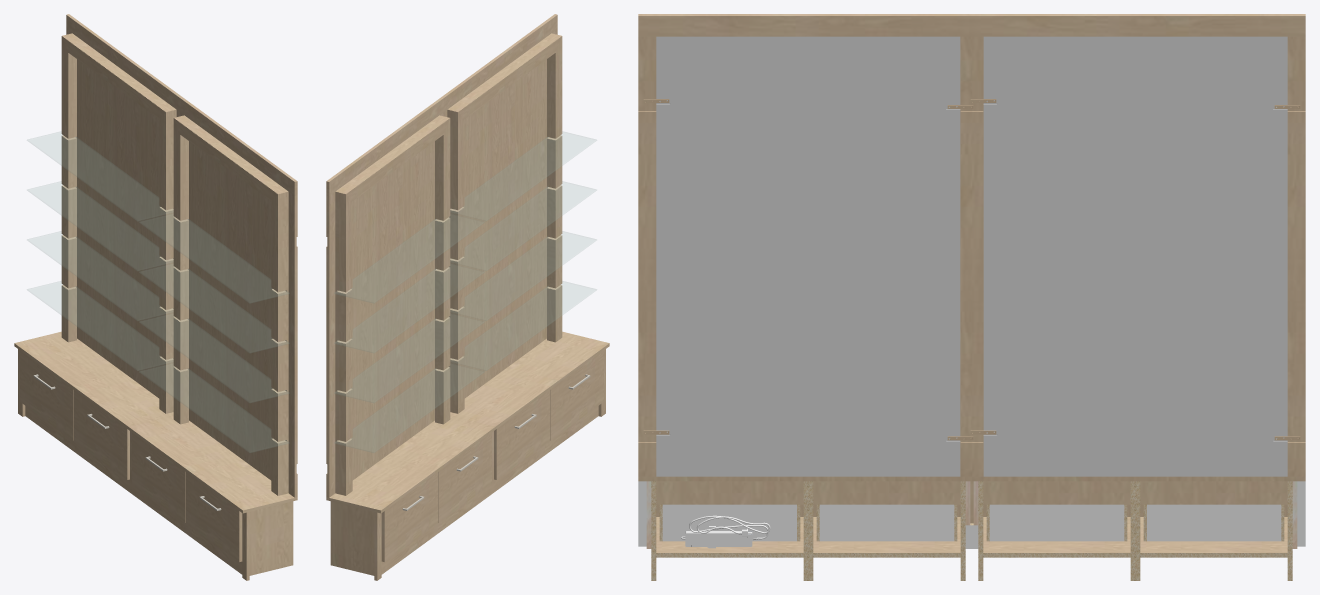
File: pressed-roots-dc-PR101.glb
The picture shows the model from 3 angles, left to right: view 1: azimuth 30°, elevation 25°; view 2: azimuth 150°, elevation 25°; view 3: azimuth 270°, elevation 25°; orthographic projection. The views are drawn at different scales.
Parts seen in each view (by area): view 1: Geom3D (×46), Geom3D_PR-RTL-FillerTop, Geom3D_PR-RTL-FillerSide; view 2: Geom3D (×46), Geom3D_PR-RTL-FillerTop, Geom3D_PR-RTL-FillerSide; view 3: Geom3D_ (×2), Geom3D (×14), Geom3D_PR-RTL-FillerSide (×2), Geom3D_PR-RTL-FillerTop, Geom3D_PR-RTL-FillerMiddle.
Part boxes in pixels (<box>): Geom3D (×46): <box>14,33,297,580</box>; Geom3D_PR-RTL-FillerTop: <box>66,14,297,195</box>; Geom3D_PR-RTL-FillerSide: <box>288,192,297,497</box>; Geom3D (×46): <box>326,33,609,580</box>; Geom3D_PR-RTL-FillerTop: <box>326,14,557,195</box>; Geom3D_PR-RTL-FillerSide: <box>326,192,335,497</box>; Geom3D_ (×2): <box>656,36,1287,476</box>; Geom3D (×14): <box>638,476,1305,580</box>; Geom3D_PR-RTL-FillerSide (×2): <box>638,36,1305,476</box>; Geom3D_PR-RTL-FillerTop: <box>638,14,1305,36</box>; Geom3D_PR-RTL-FillerMiddle: <box>960,36,983,476</box>.
Size of the model in its own units: 0.3836 by 2.44 by 2.62.
17 materials, 8 textured.
